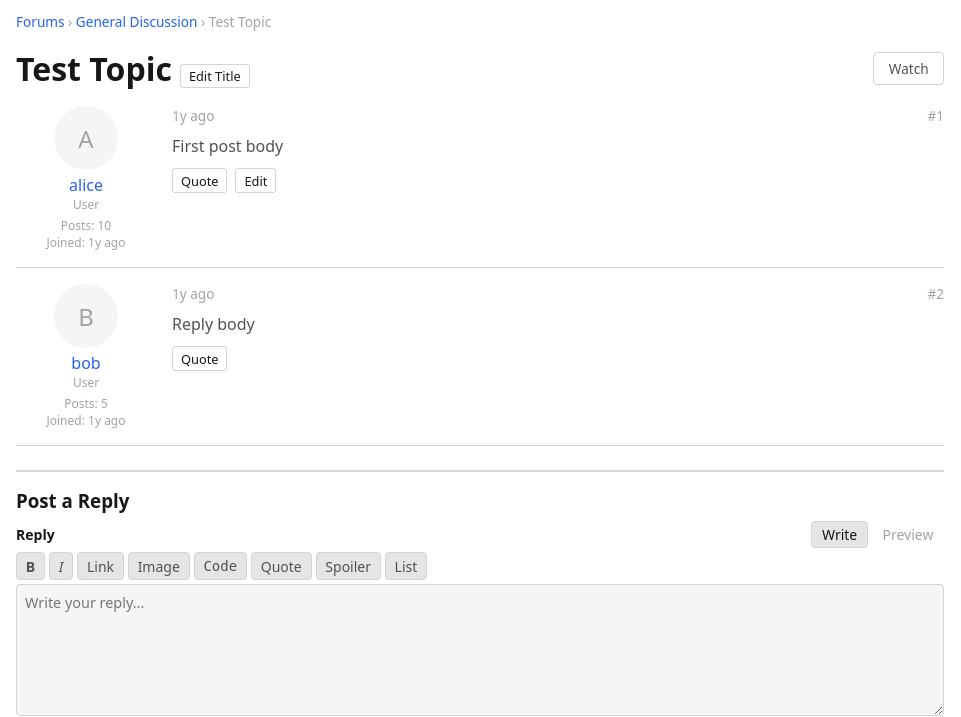
Scenario: ForumTopicViewPage › cancel edit exits edit mode
expect the heading "Test Topic Edit Title" is shown: met, box [16,47,250,90]
Step 1. Click the button "Edit" → (256, 181), box [236,168,276,193]
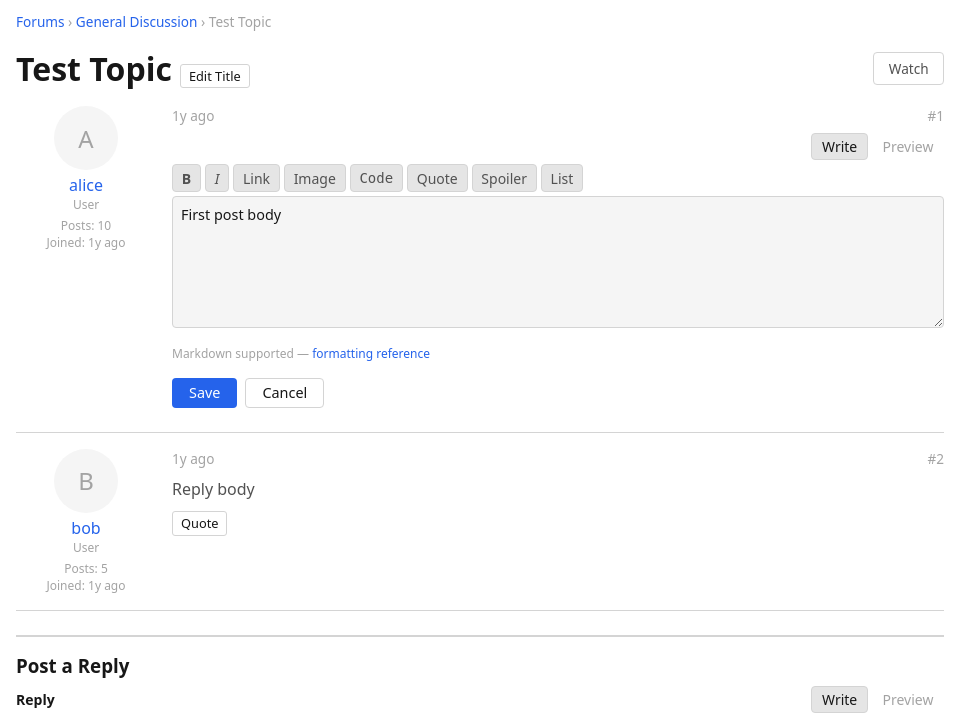
expect the button "Save" is shown: met, box [172,378,237,408]
# Click Cancel in the edit form actions
Step 2. Click the button "Cancel" → (285, 393), box [245,378,324,408]
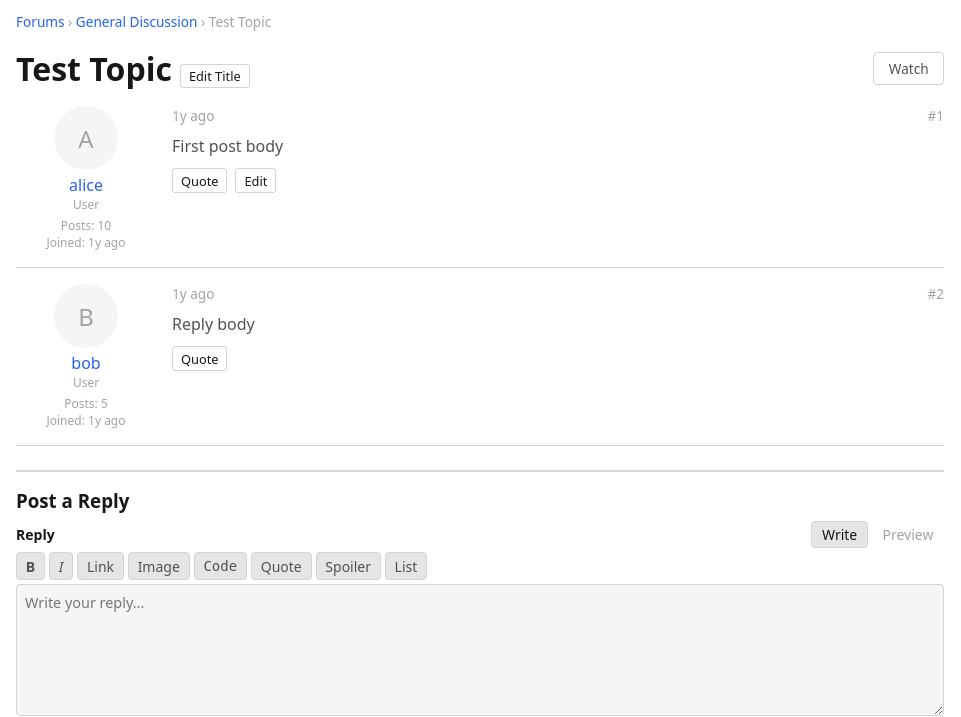
expect the button "Save" is gone: met
expect the text "First post body" is shown: met, box [172,135,283,157]
